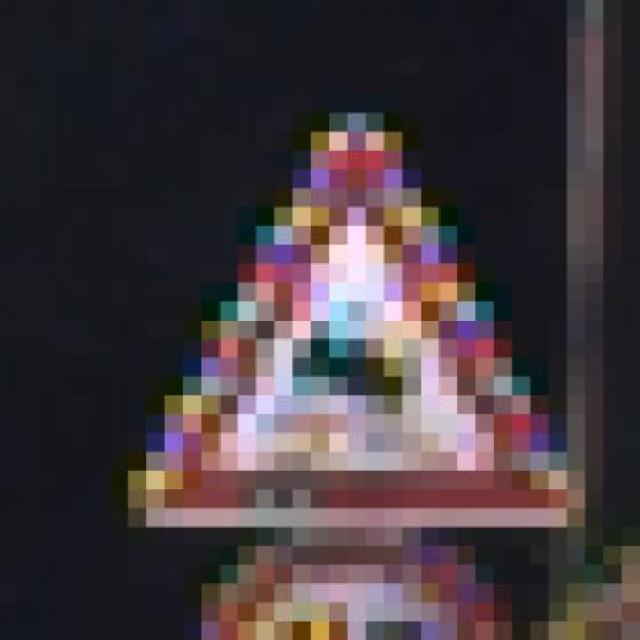Slippery Road Ahead: (110, 75, 585, 528)
